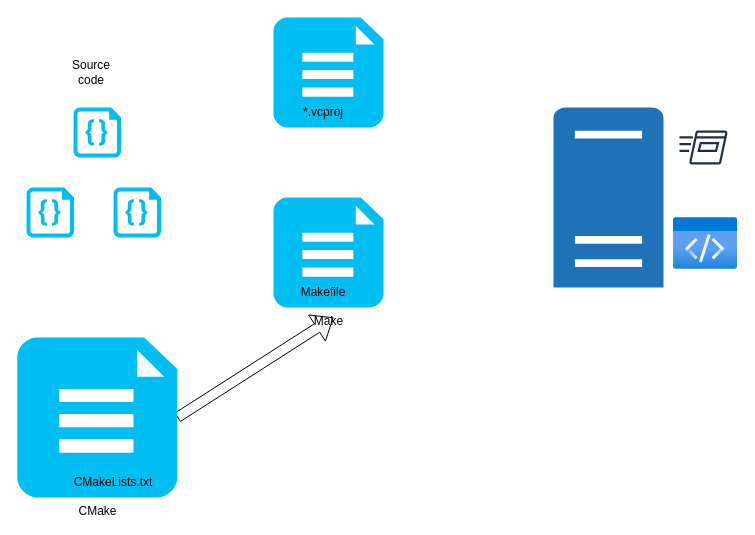
The diagram is 755 pixels wide and 535 high, and some of its shapes have lost their labels. Here are the shapes that lost their labels. From the top down, the box of each, then its label:
(273, 17, 383, 127): MSBuild
(672, 116, 734, 178): Run command
